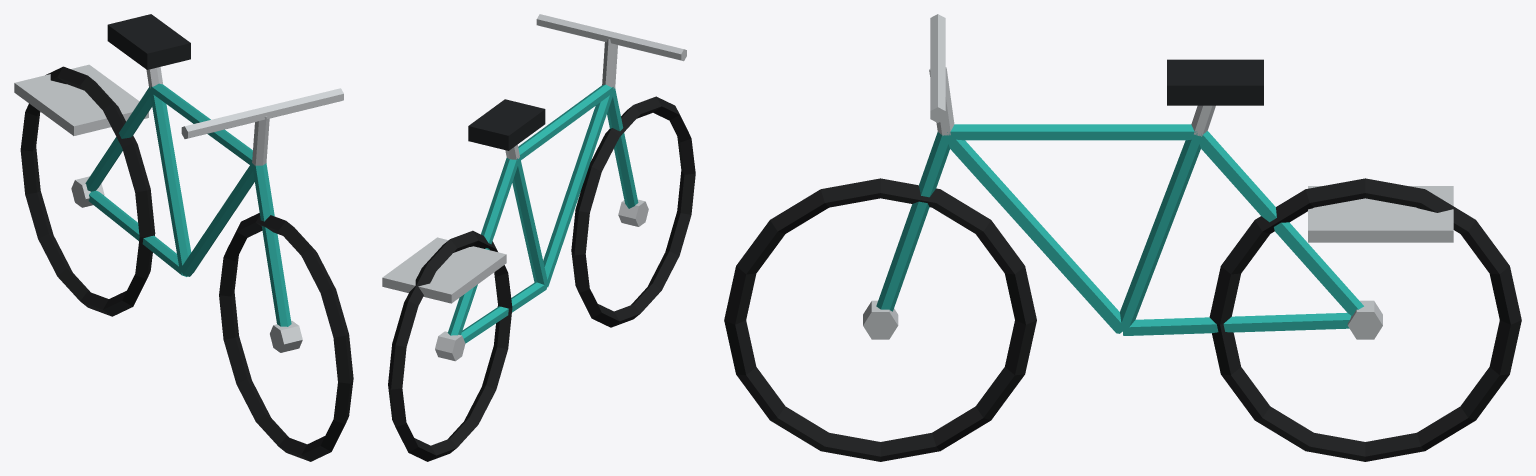
Rendered from getkong-hhrad.glb.
The picture shows the model from 3 angles, left to right: view 1: azimuth 30°, elevation 25°; view 2: azimuth 150°, elevation 25°; view 3: azimuth 270°, elevation 25°; orthographic projection. The views are drawn at different scales.
Visible parts, largest first — view 1: rad; view 2: rad; view 3: rad.
Part boxes in pixels (<box>): rad: <box>14,14,353,461</box>; rad: <box>382,14,695,461</box>; rad: <box>724,14,1521,461</box>.
Bounding box in the file's own units: 0.5 × 1.01 × 1.81.
